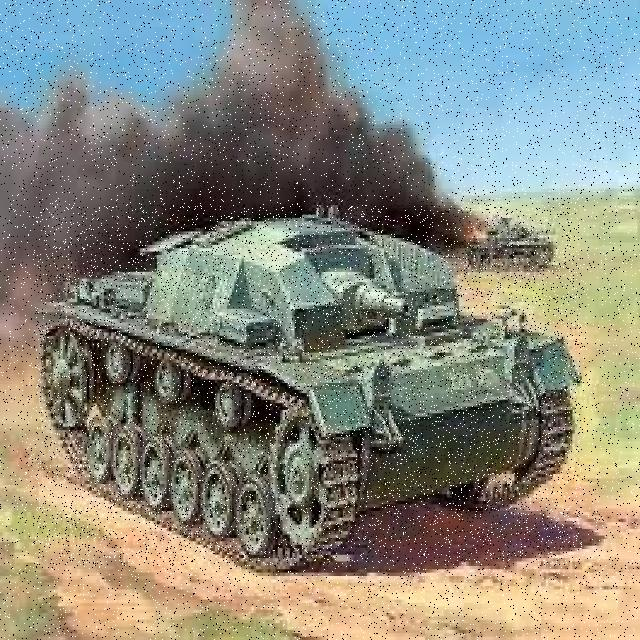MIL_MBT: (37, 205, 582, 565)
